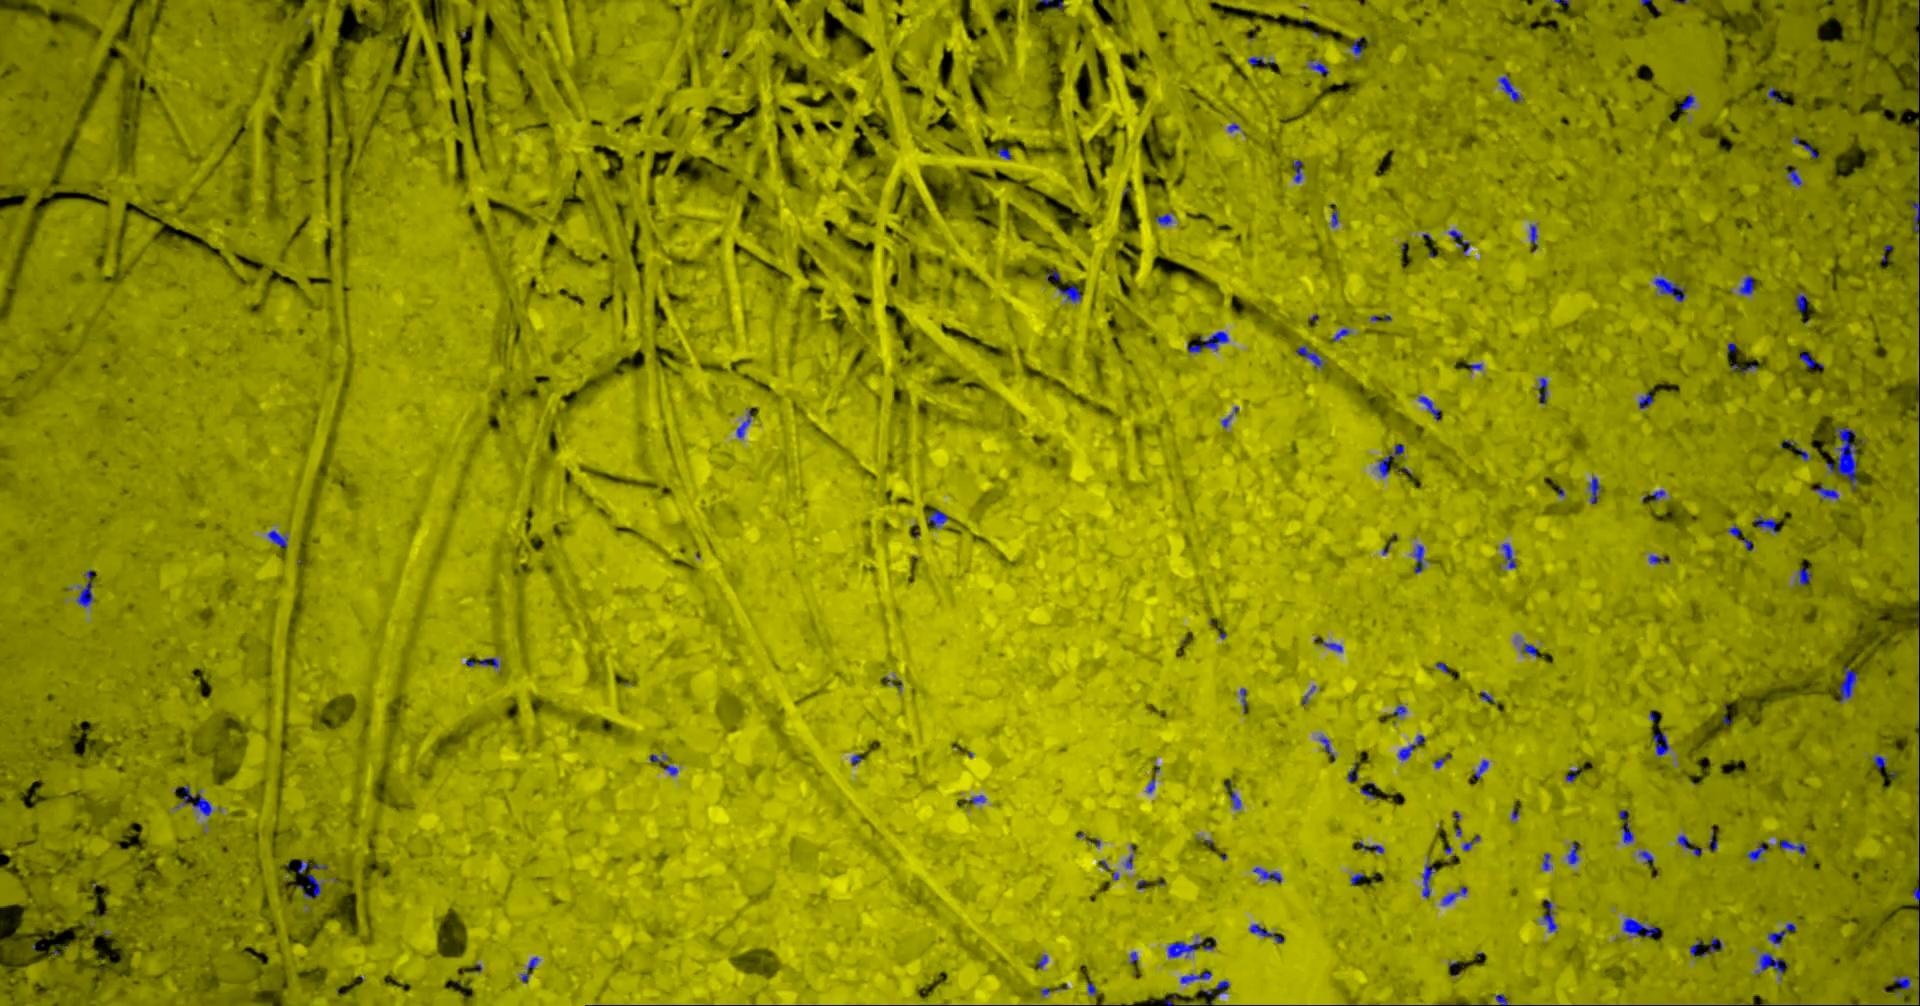ant: (1826, 427, 1859, 492), (182, 785, 211, 815), (1186, 332, 1228, 352), (1377, 445, 1403, 476), (1167, 940, 1214, 956), (1622, 917, 1658, 937), (1653, 277, 1684, 301), (1497, 74, 1523, 102), (75, 569, 93, 607), (1397, 734, 1423, 760), (1839, 667, 1857, 702), (1250, 923, 1283, 942), (1689, 937, 1722, 956), (1790, 135, 1817, 158), (1295, 345, 1323, 367), (1768, 922, 1796, 944), (1757, 951, 1787, 972), (1448, 229, 1469, 255), (298, 874, 321, 898), (1418, 395, 1440, 420), (1618, 809, 1633, 843), (1677, 835, 1702, 856), (1440, 885, 1467, 904), (1421, 862, 1435, 897), (1752, 514, 1778, 532), (521, 956, 538, 982), (1542, 899, 1556, 931), (1057, 285, 1081, 302), (1799, 349, 1823, 367), (737, 408, 750, 438), (1500, 542, 1516, 568), (1178, 970, 1211, 983), (1252, 868, 1281, 882), (926, 509, 947, 527), (1746, 843, 1768, 861), (1350, 37, 1366, 60), (1305, 58, 1328, 75), (1907, 199, 1919, 232), (267, 530, 287, 547), (1589, 475, 1601, 503), (1779, 840, 1804, 854), (1653, 732, 1669, 754), (1319, 735, 1335, 758), (1813, 485, 1837, 499), (465, 657, 498, 667), (1357, 841, 1383, 854), (1413, 544, 1423, 573), (1893, 976, 1910, 992), (1474, 760, 1488, 779), (1768, 85, 1782, 103), (1738, 276, 1752, 293), (1321, 640, 1342, 652), (1788, 166, 1801, 185), (1331, 328, 1350, 340), (1566, 843, 1578, 862), (1679, 94, 1694, 109), (1638, 392, 1653, 408), (1796, 293, 1808, 311), (1538, 377, 1547, 403), (1797, 568, 1810, 586), (649, 751, 667, 763), (1346, 763, 1357, 782), (1039, 0, 1063, 9), (1389, 704, 1406, 716), (1293, 159, 1302, 182), (1872, 754, 1886, 768), (1215, 981, 1229, 995), (1638, 850, 1653, 862), (1648, 554, 1669, 563), (1523, 643, 1537, 655), (1229, 791, 1239, 808), (997, 147, 1011, 159), (1156, 213, 1171, 224), (1529, 224, 1537, 244), (1542, 854, 1550, 870), (1247, 56, 1266, 64)
